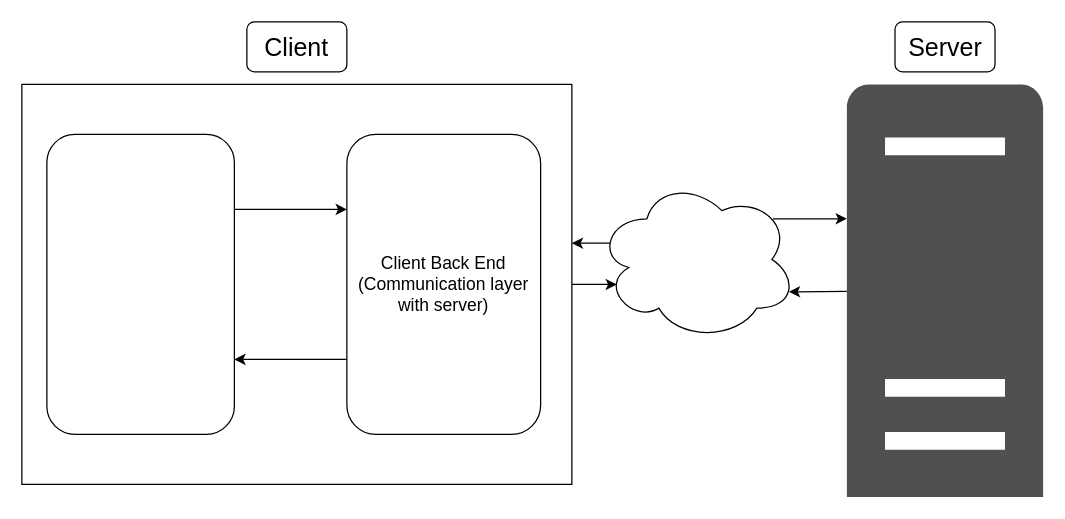
Some shapes in this 1065 by 519 pixel diagram are drawn without their labels. The box of each missing label's shape, as (x1, y1, x2, y2) in pixels:
Client Front End (What's shown on the screen): (46, 133, 234, 434)
Internet: (596, 177, 797, 341)
